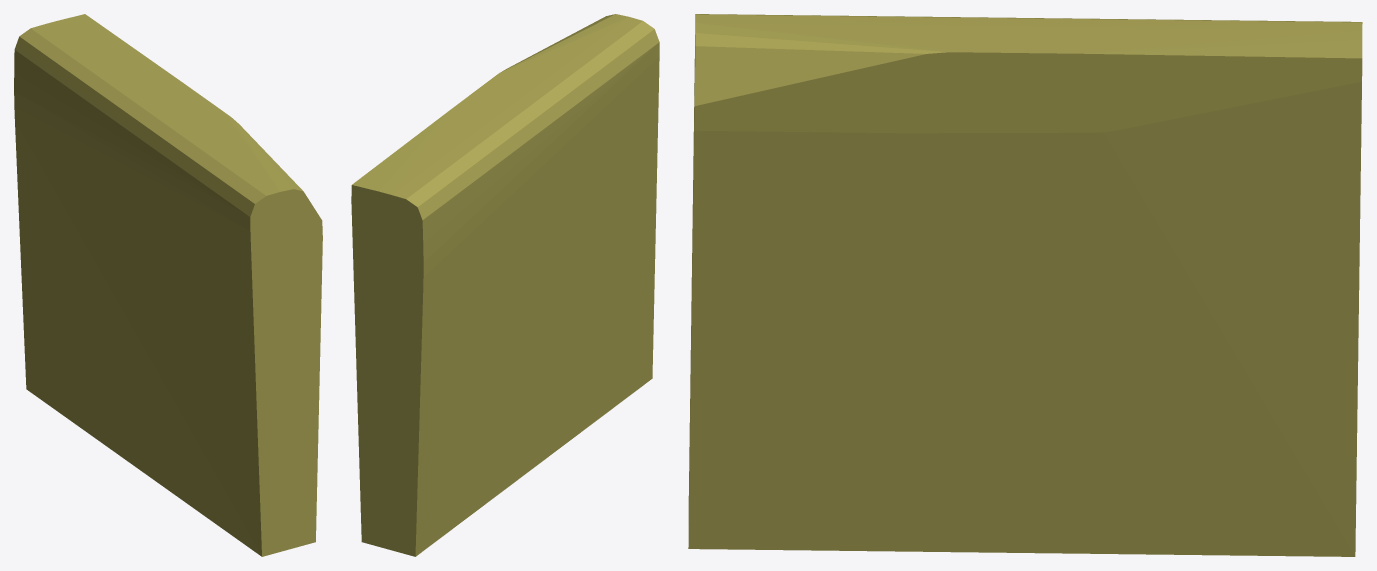
File: converted_Downdraft_Assy_collision_4_aca653ff.obj
3 views of the same model, side by side, from view 1: azimuth 30°, elevation 25°; view 2: azimuth 150°, elevation 25°; view 3: azimuth 270°, elevation 25° (orthographic). The views are drawn at different scales.
Bounding box in the file's own units: 0.0804 × 0.384 × 0.457.
